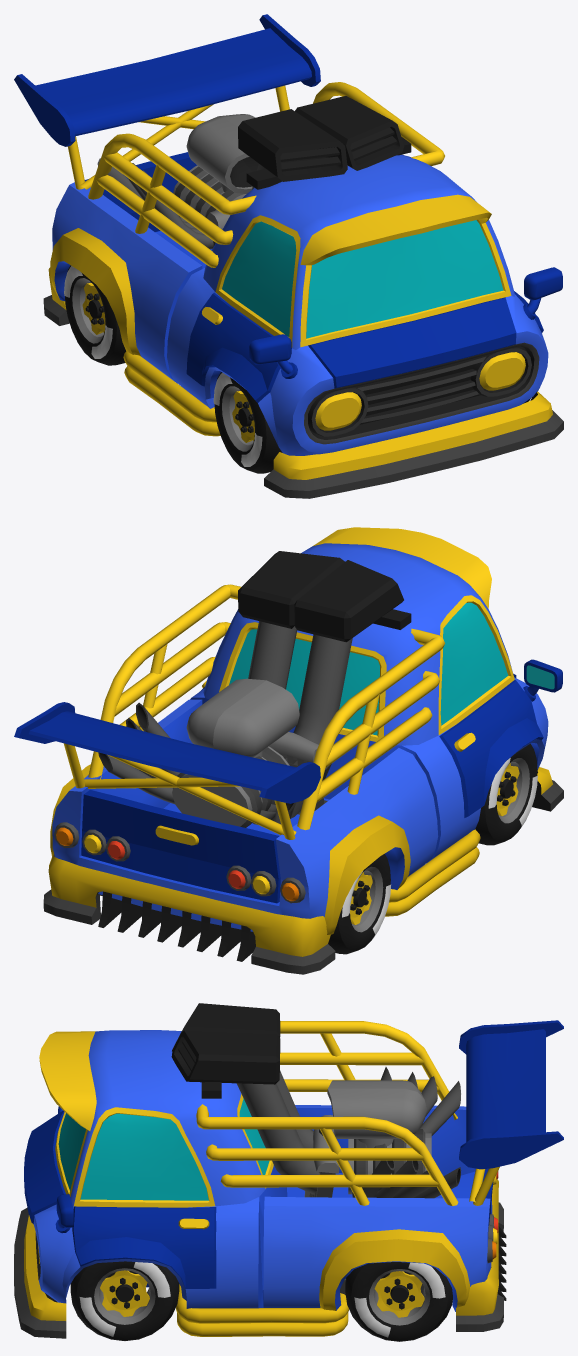
File: VEH20-C.fbx
3 renders of one model, top to bottom at view 1: azimuth 30°, elevation 25°; view 2: azimuth 150°, elevation 25°; view 3: azimuth 270°, elevation 25°, orthographic. The views are drawn at different scales.
Parts seen in each view (by area): view 1: VEH20_C, V20C_Wheel_FR, V20C_Wheel_BR; view 2: VEH20_C, V20C_Wheel_FR, V20C_Wheel_BR; view 3: VEH20_C, V20C_Wheel_FL, V20C_Wheel_BL.
Boxes of the visible parts, x1,y1,x2,y2 form: VEH20_C: (14, 14, 563, 498); V20C_Wheel_FR: (213, 372, 282, 473); V20C_Wheel_BR: (64, 265, 125, 365); VEH20_C: (14, 527, 563, 974); V20C_Wheel_FR: (475, 744, 537, 845); V20C_Wheel_BR: (328, 854, 391, 954); VEH20_C: (14, 1003, 563, 1338); V20C_Wheel_FL: (70, 1261, 179, 1340); V20C_Wheel_BL: (345, 1262, 452, 1341).
Bounding box in the file's own units: 261 × 222 × 432.
1 material, 1 textured.
